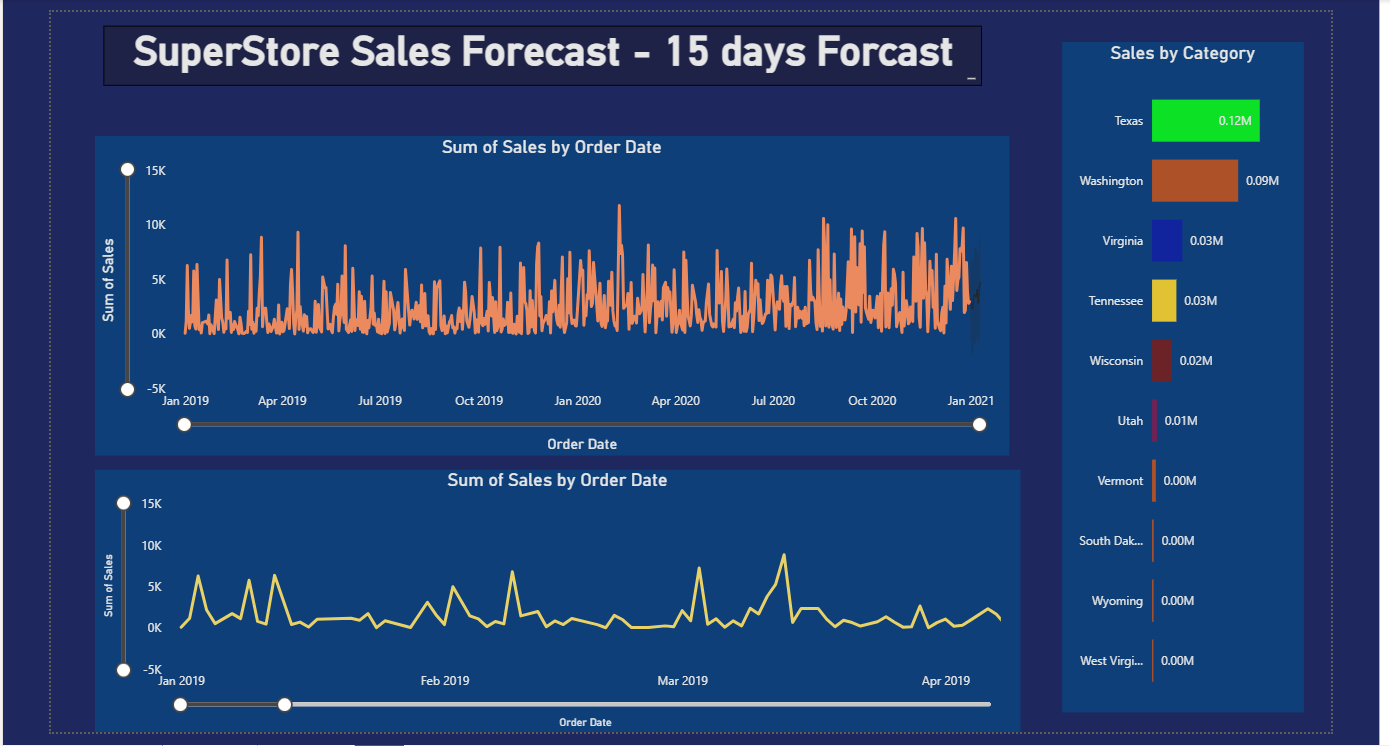

The page's visual inventory and layout, read from the dashboard file:
{"tool":"powerbi","page":{"name":"Page 2","canvas":[1280,720],"ordinal":1},"visuals":[{"type":"lineChart","fields":{"Y":["Sum(SuperStore_Sales_Dataset.Sales)"],"Category":["SuperStore_Sales_Dataset.Order Date"]},"box":[44.3,457.1,925.7,262.9],"z":0},{"type":"lineChart","fields":{"Y":["Sum(SuperStore_Sales_Dataset.Sales)"],"Category":["SuperStore_Sales_Dataset.Order Date"]},"box":[44.3,124.3,914.3,320],"z":1000},{"type":"clusteredBarChart","title":"Sales by Category","fields":{"Category":["SuperStore_Sales_Dataset.State"],"Y":["Sum(SuperStore_Sales_Dataset.Sales)"]},"box":[1011.4,30,241.4,670],"z":2000},{"type":"textbox","title":"SuperStore Sales Forecast - 15 days Forcast","box":[52.9,14.3,878.6,60],"z":3000}]}

Visuals, with their boxes on the page's 1280x720 design canvas (x1, y1, x2, y2). These are canvas units, not pixel positions in the 1390x746 screenshot, which may show the page scaled, cropped or inside an application window:
lineChart - Sum(SuperStore_Sales_Dataset.Sales) x SuperStore_Sales_Dataset.Order Date: l=44, t=457, r=970, b=720
lineChart - Sum(SuperStore_Sales_Dataset.Sales) x SuperStore_Sales_Dataset.Order Date: l=44, t=124, r=959, b=444
"Sales by Category" clusteredBarChart: l=1011, t=30, r=1253, b=700
"SuperStore Sales Forecast - 15 days Forcast" textbox: l=53, t=14, r=932, b=74
